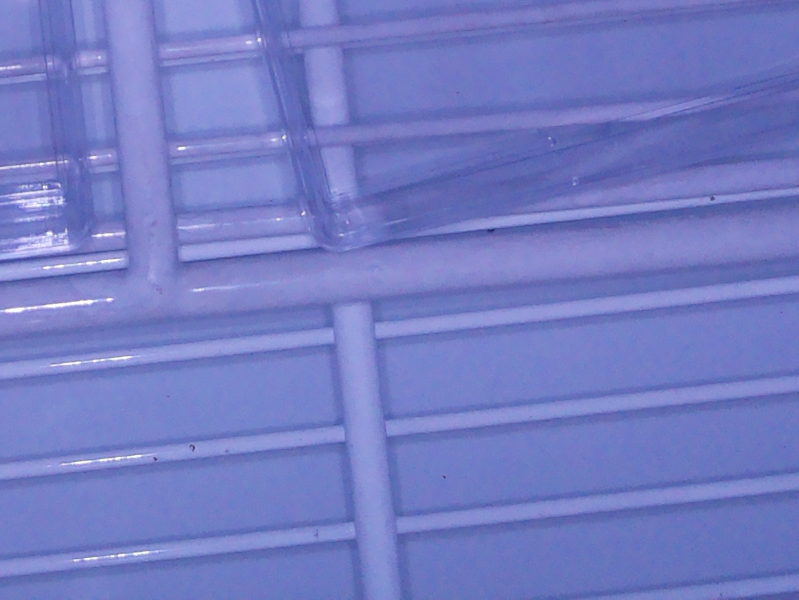plate: (245, 1, 799, 251), (1, 1, 100, 263)
